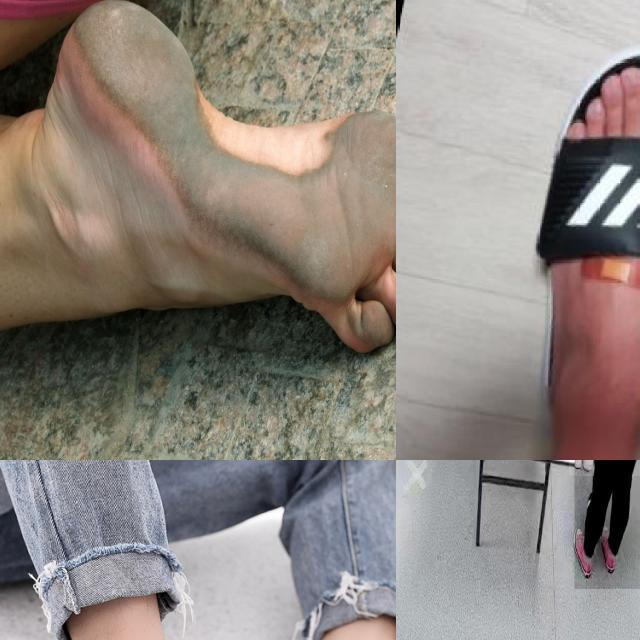Barefoots: (44, 0, 396, 353)
Sandals: (477, 9, 640, 460)
person: (574, 460, 640, 590)
shoes: (598, 514, 618, 578), (572, 523, 592, 581)
